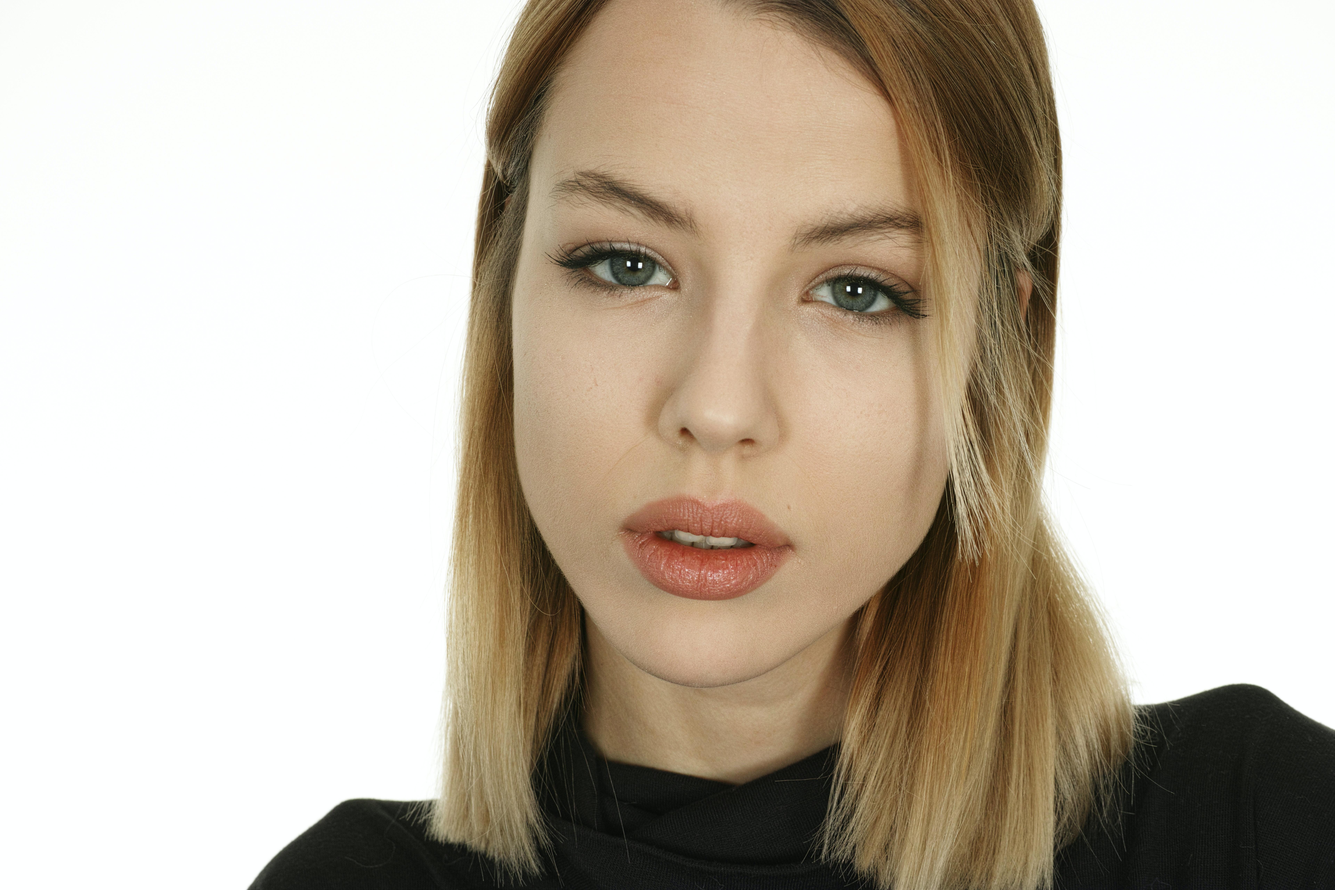Eyes: (791, 244, 931, 347), (552, 217, 685, 309)
